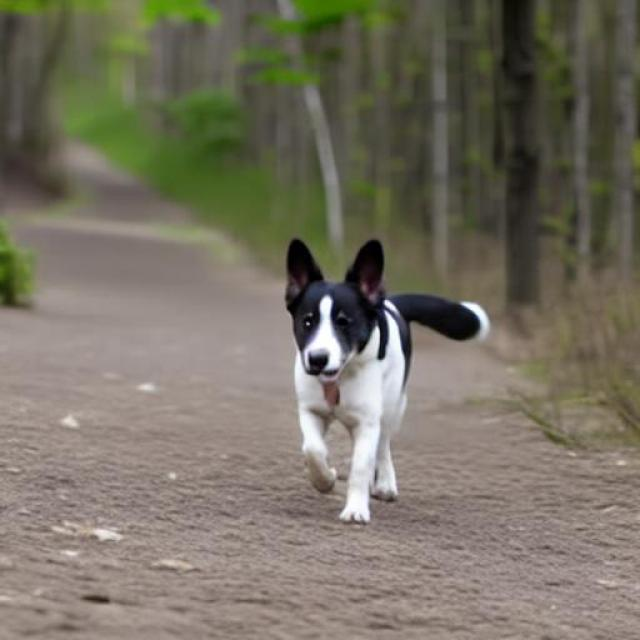Dog: (285, 237, 490, 526)
